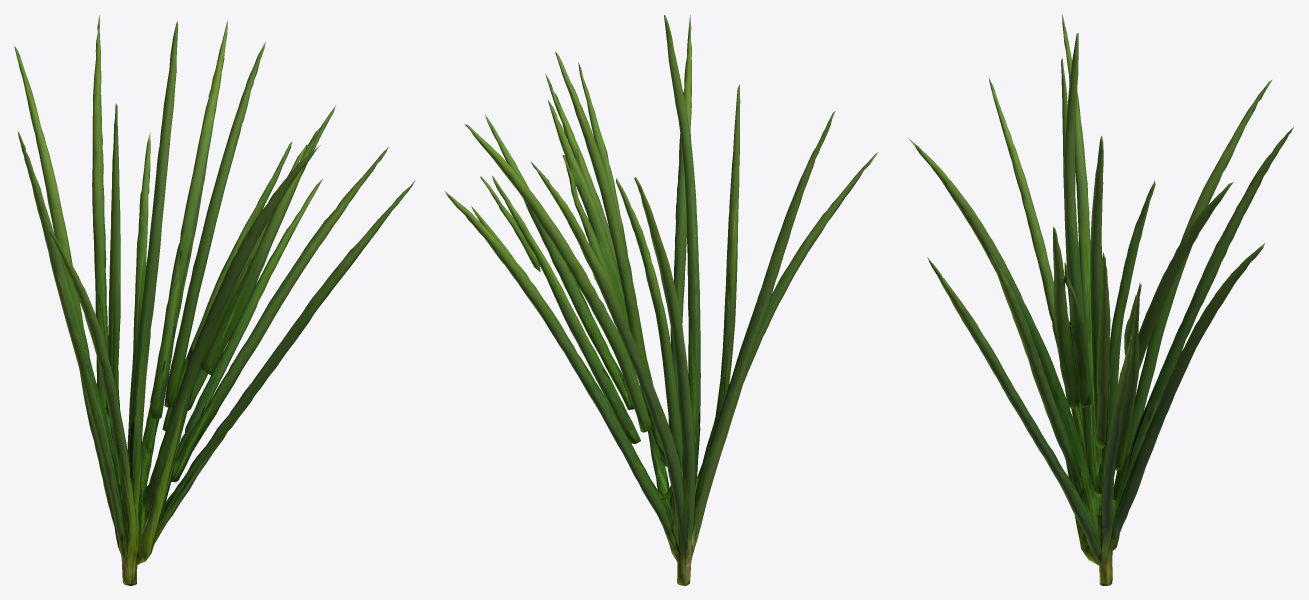
The model's file is capim-limao.glb.
The picture shows the model from 3 angles, left to right: view 1: azimuth 30°, elevation 25°; view 2: azimuth 150°, elevation 25°; view 3: azimuth 270°, elevation 25°; orthographic projection. The views are drawn at different scales.
Bounding box in the file's own units: 1.28 × 1.99 × 1.23.
1 material, 1 textured.
